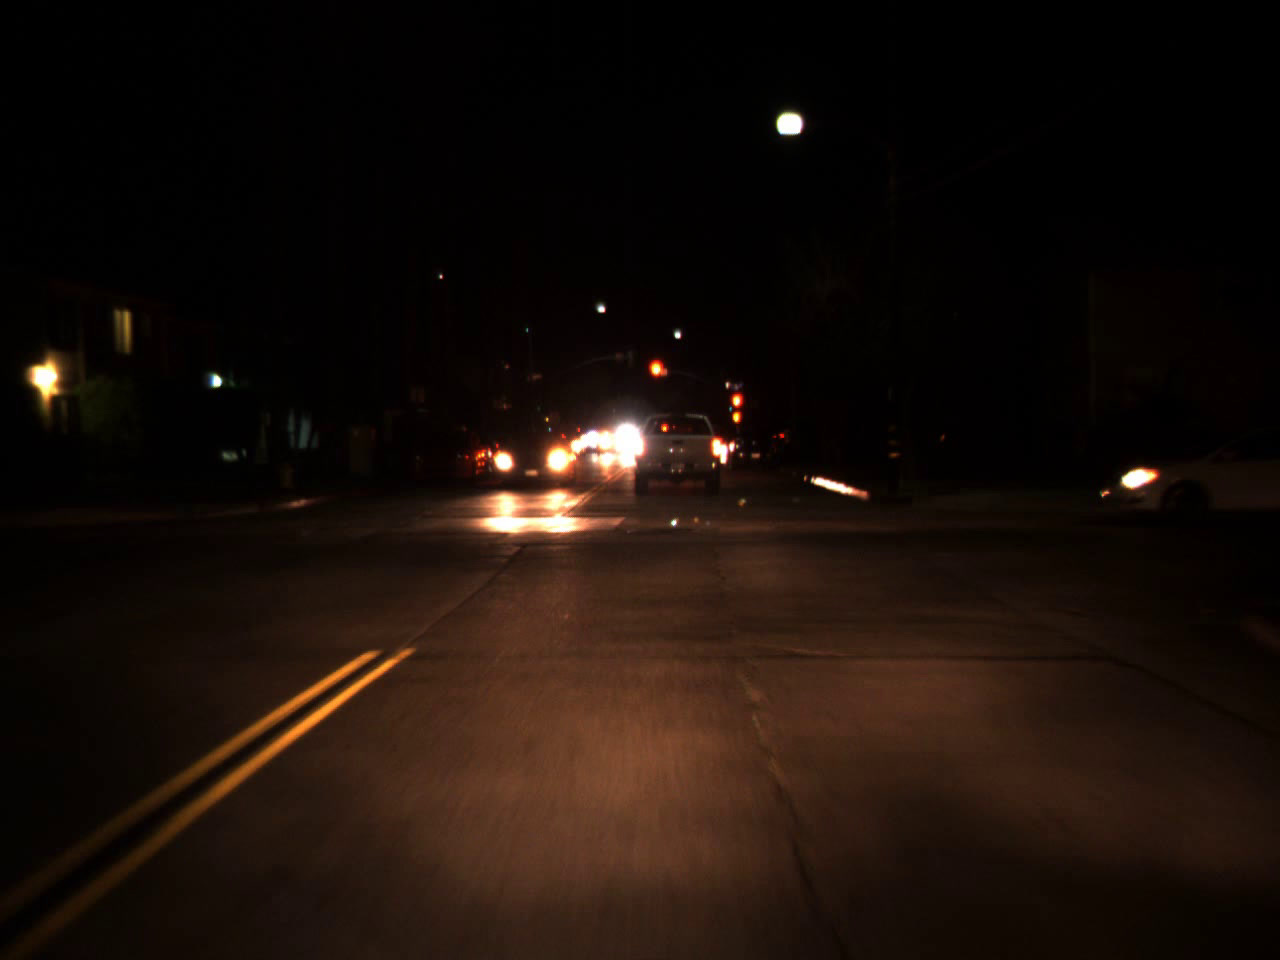stop: (646, 357, 670, 397), (730, 390, 743, 427)
